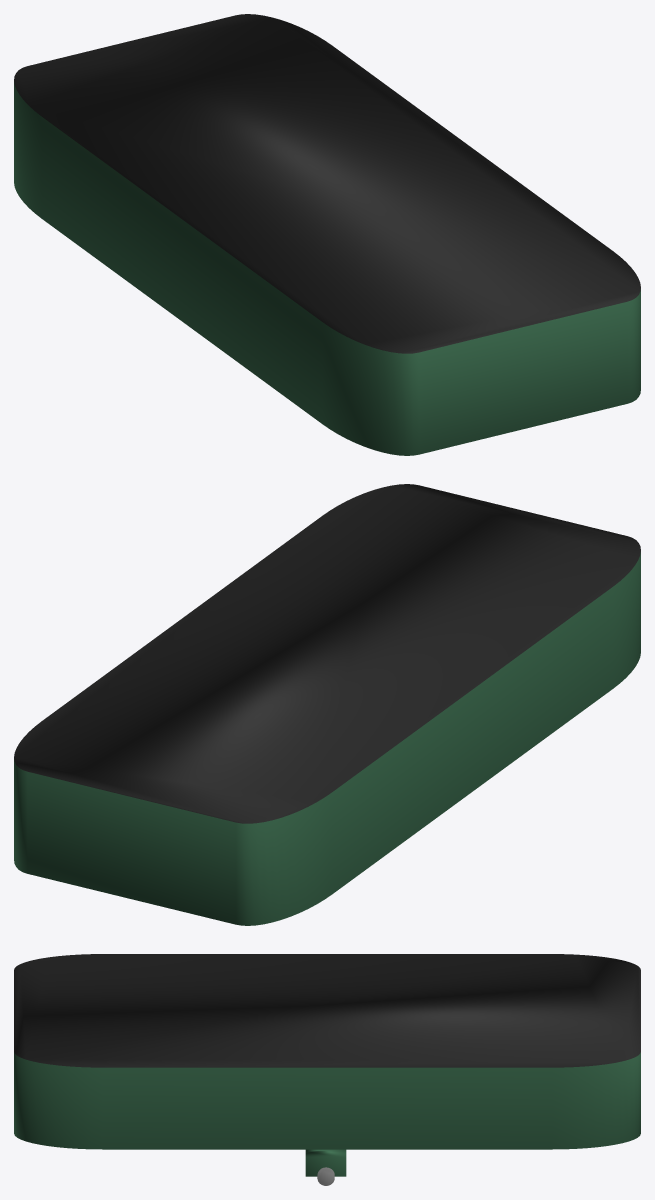
The model's file is carga-flexion1puntos.gltf.
3 views of the same model, one above another, from view 1: azimuth 30°, elevation 25°; view 2: azimuth 150°, elevation 25°; view 3: azimuth 270°, elevation 25° (orthographic). The views are drawn at different scales.
Parts seen in each view (by area): view 1: carga2puntos; view 2: carga2puntos; view 3: carga2puntos, carga2puntos.003.
Boxes of the visible parts, x1,y1,x2,y2 form: carga2puntos: [14, 14, 640, 455]; carga2puntos: [14, 484, 640, 925]; carga2puntos: [14, 954, 640, 1149]; carga2puntos.003: [305, 1149, 346, 1185].
Bounding box in the file's own units: 0.5862 × 0.3279 × 1.37.
